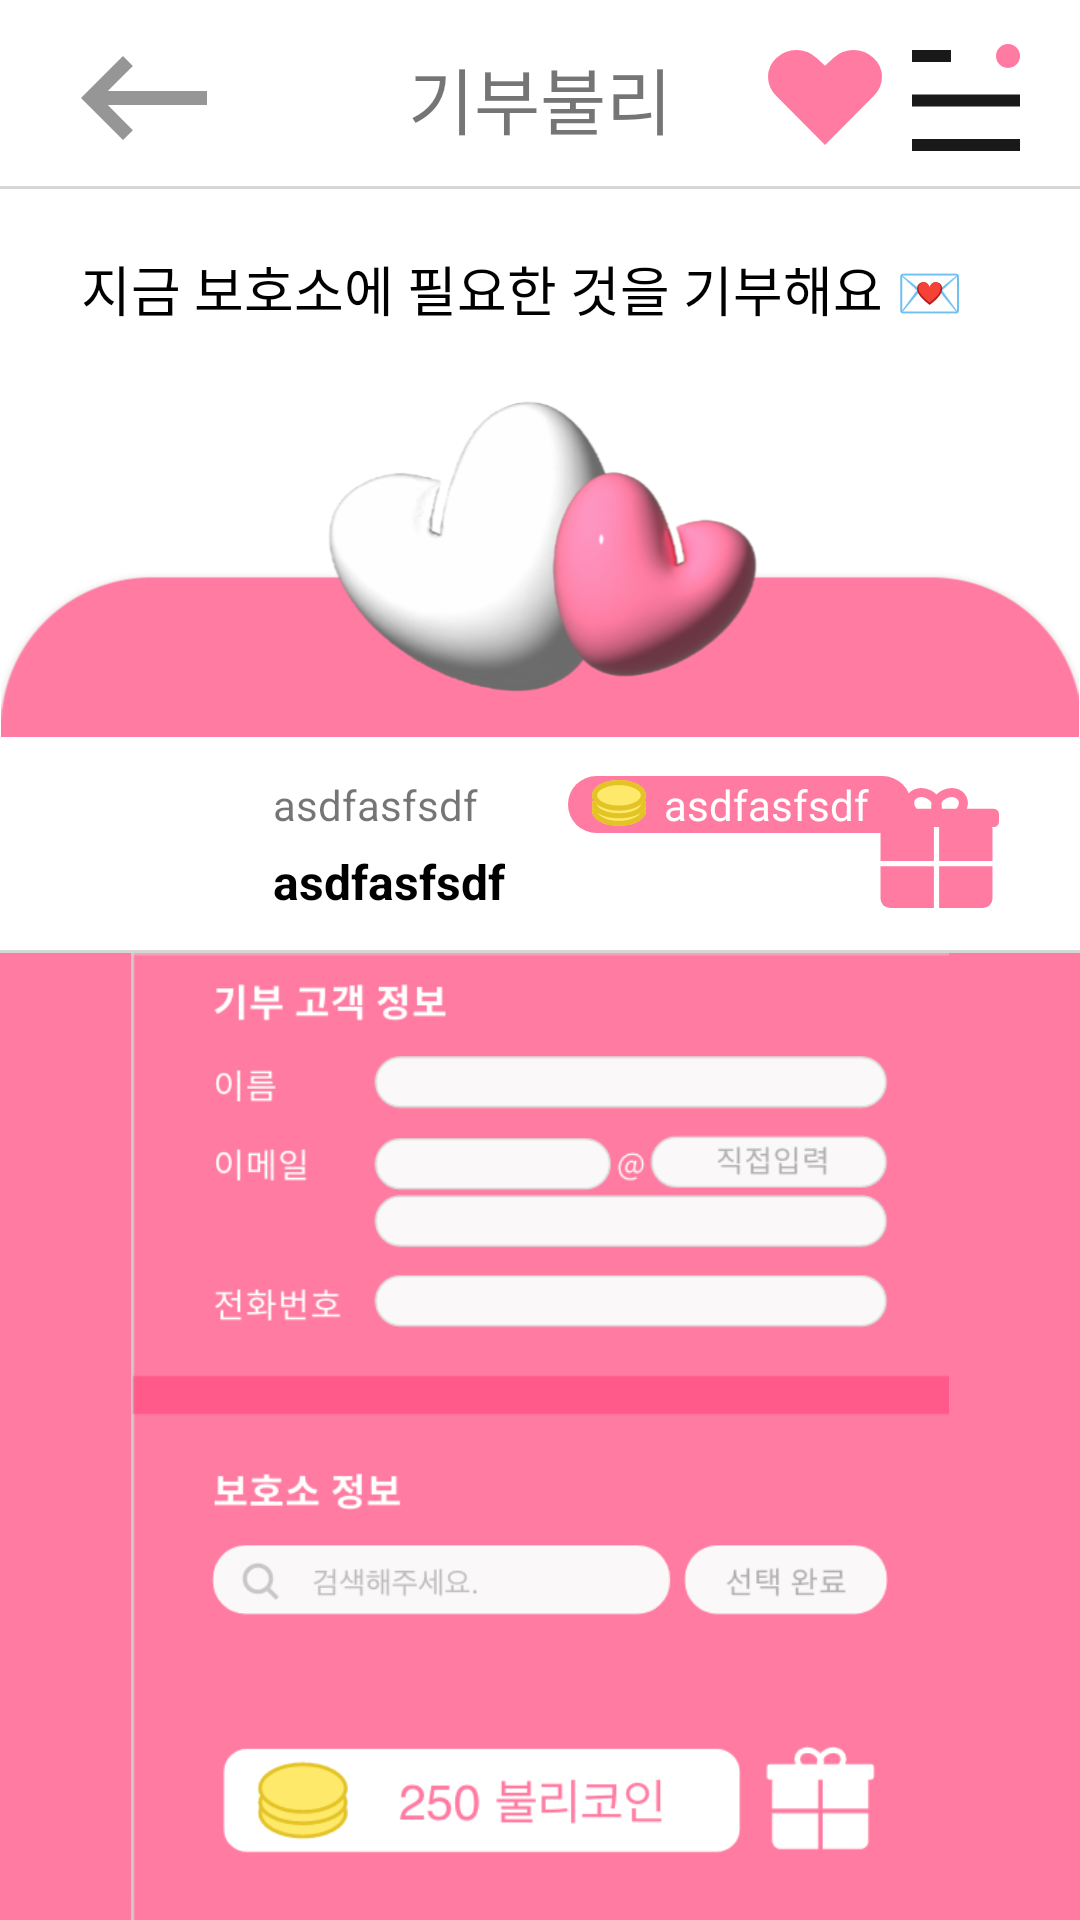

Point at icon controls on the screen. Image size 1080w x 1920h, points as [x,y].
back: [144,98]
coin: [619,803]
donate: [936,845]
heart: [825,97]
menu: [966,97]
